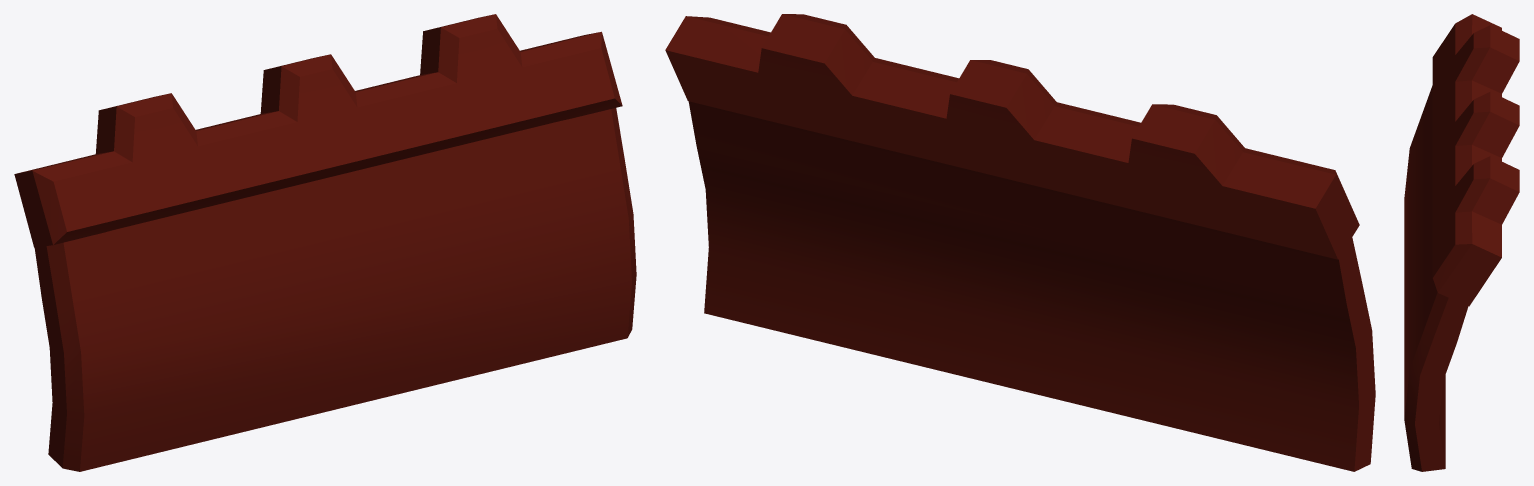
The model's file is kin_minidungeon_garbagechute01.fbx.
3 renders of one model, left to right at view 1: azimuth 30°, elevation 25°; view 2: azimuth 150°, elevation 25°; view 3: azimuth 270°, elevation 25°, orthographic. The views are drawn at different scales.
Visible parts, largest first — view 1: part6_lp.002; view 2: part6_lp.002; view 3: part6_lp.002.
Boxes of the visible parts, x1,y1,x2,y2 form: part6_lp.002: (14, 14, 636, 471); part6_lp.002: (665, 14, 1375, 471); part6_lp.002: (1404, 14, 1519, 471).
Bounding box in the file's own units: 16.54 × 8.61 × 3.51.
